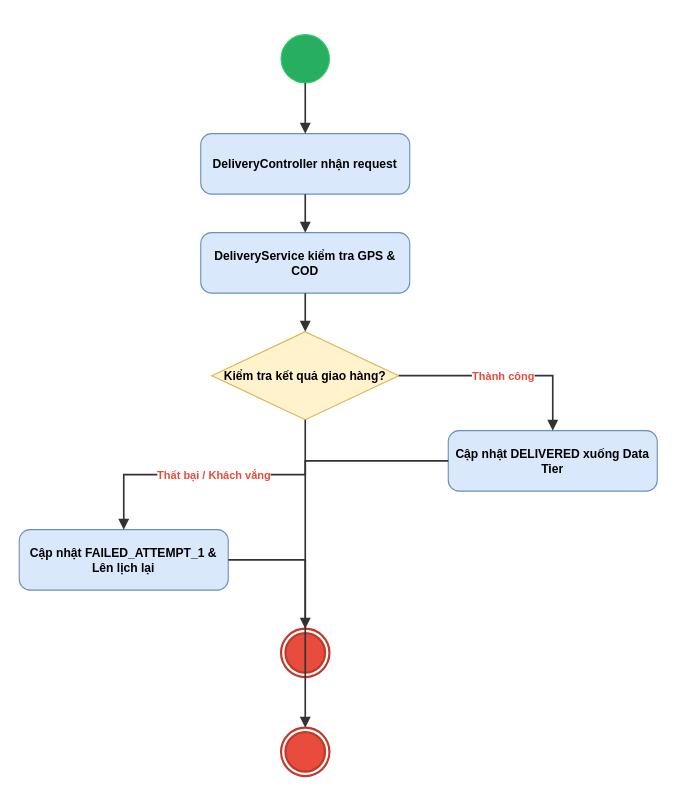
This 677x796 diagram has some shape labels left out. The shapes that lost their labels are listed below. From the top down, each one's centre as x and y in pixels, then its label:
At [304,58]: "Shipper chọn đơn và gửi DTO".
At [304,652]: "Kết thúc: Giao thành công".
At [304,751]: "Kết thúc: Giao lại lần 2".
